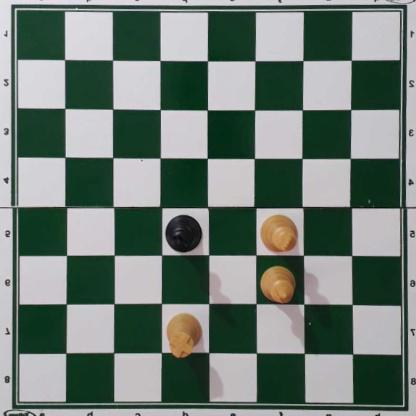black-king: (163, 215, 202, 253)
white-bishop: (261, 266, 294, 305)
white-king: (260, 214, 298, 255)
white-rook: (166, 313, 203, 357)
